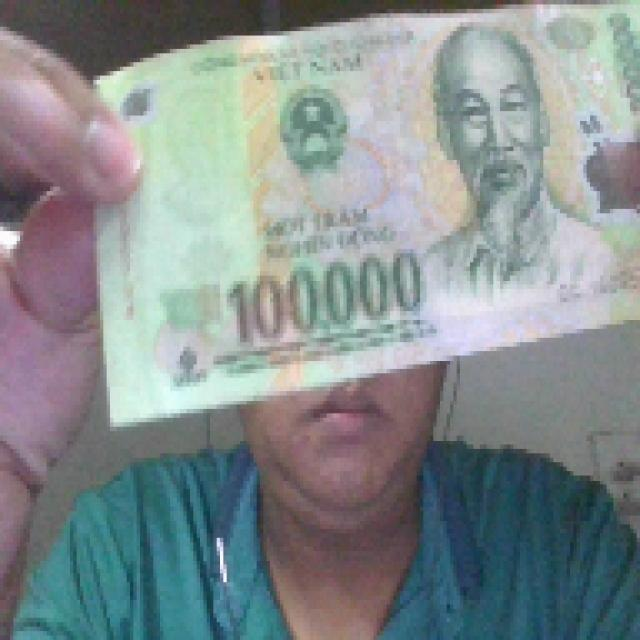100 000 VND: (83, 0, 637, 431)
